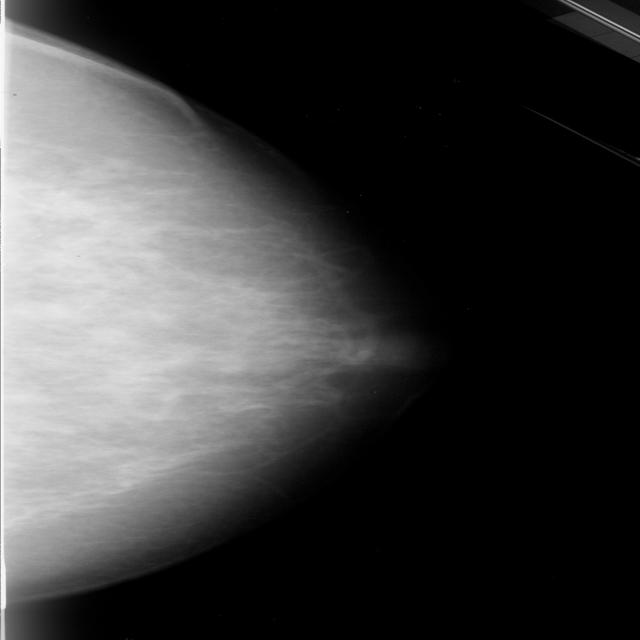normal: (0, 38, 441, 619)
